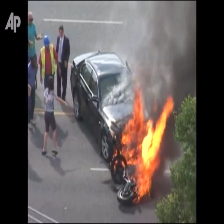fire_h: (120, 88, 173, 198)
fire_l: (113, 159, 125, 171), (109, 149, 118, 161)
